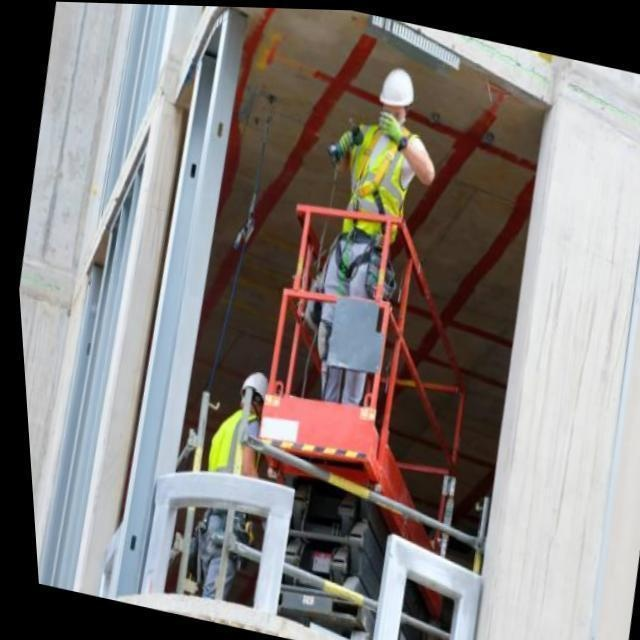Arnes_seguridad: (341, 116, 413, 264)
